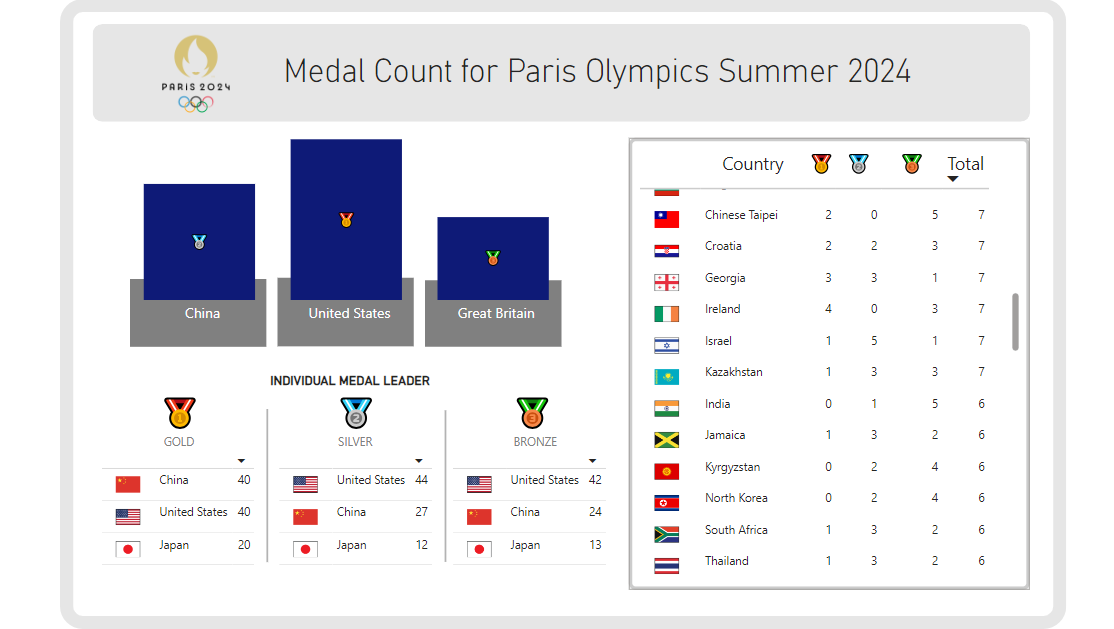

Layout of this report page (visuals, bound fields, positions):
{"tool":"powerbi","page":{"name":"Page 1","canvas":[1280,720],"ordinal":0},"visuals":[{"type":"shape","box":[74.6,0,1150,720],"z":0},{"type":"shape","box":[322.9,319.1,155.7,78.6],"z":1000},{"type":"shape","box":[491.6,320.7,156.2,76.2],"z":2000},{"type":"shape","box":[153.7,319.5,155.8,77.5],"z":3000},{"type":"tableEx","fields":{"Values":["Flag.Flag","Total Medals By Country.Country","Total Medals By Country.Gold","Total Medals By Country.Silver","Total Medals By Country.Bronze","Total Medals By Country.Total"]},"box":[725,158.3,458.3,516.7],"z":4000},{"type":"clusteredColumnChart","fields":{"Category":["Total Medals By Country.Country"],"Y":["Sum(Total Medals By Country.Total)"]},"box":[102.9,122.9,604.3,257.1],"z":5000},{"type":"tableEx","fields":{"Values":["Flag.Flag","Total Medals By Country.Country","Sum(Total Medals By Country.Gold)"]},"box":[115,499,195,159],"z":6000},{"type":"tableEx","fields":{"Values":["Flag.Flag","Total Medals By Country.Country","Sum(Total Medals By Country.Silver)"]},"box":[318,499,196,159],"z":7000},{"type":"tableEx","fields":{"Values":["Flag.Flag","Total Medals By Country.Country","Sum(Total Medals By Country.Bronze)"]},"box":[517,499,201,158],"z":8000},{"type":"textbox","box":[255,422,300,37],"z":9000},{"type":"textbox","box":[184.2,445,56.7,55],"z":10000},{"type":"textbox","box":[385,445,60.8,55],"z":11000},{"type":"textbox","box":[587.5,445,62.5,55],"z":12000},{"type":"shape","box":[285,468,51,175],"z":13000},{"type":"shape","box":[484.4,470,61.1,173.3],"z":14000},{"type":"shape","box":[111.7,28.3,1071.7,111.7],"z":15000},{"type":"image","box":[152.9,14.3,154.3,142.9],"z":16000},{"type":"textbox","box":[258,54,860,72],"z":17000},{"type":"textbox","box":[176.4,491.8,69.1,39.1],"z":17001},{"type":"textbox","box":[377,491,69,39],"z":17002},{"type":"textbox","box":[582.7,491.8,69.1,39.1],"z":17003}]}

Visuals, with their boxes in screenshot pixels (x1, y1, x2, y2), scaled from the page's 1280x720 canvas onto the 1114x629 screenshot:
shape: x1=65, y1=0, x2=1066, y2=628
shape: x1=281, y1=279, x2=417, y2=347
shape: x1=428, y1=280, x2=564, y2=347
shape: x1=134, y1=279, x2=269, y2=347
tableEx - Flag.Flag x Total Medals By Country.Country: x1=631, y1=138, x2=1030, y2=590
clusteredColumnChart - Total Medals By Country.Country x Sum(Total Medals By Country.Total): x1=90, y1=107, x2=615, y2=332
tableEx - Flag.Flag x Total Medals By Country.Country: x1=100, y1=436, x2=270, y2=575
tableEx - Flag.Flag x Total Medals By Country.Country: x1=277, y1=436, x2=447, y2=575
tableEx - Flag.Flag x Total Medals By Country.Country: x1=450, y1=436, x2=625, y2=574
textbox: x1=222, y1=369, x2=483, y2=401
textbox: x1=160, y1=389, x2=210, y2=437
textbox: x1=335, y1=389, x2=388, y2=437
textbox: x1=511, y1=389, x2=566, y2=437
shape: x1=248, y1=409, x2=292, y2=562
shape: x1=422, y1=411, x2=475, y2=562
shape: x1=97, y1=25, x2=1030, y2=122
image: x1=133, y1=12, x2=267, y2=137
textbox: x1=225, y1=47, x2=973, y2=110
textbox: x1=154, y1=430, x2=214, y2=464
textbox: x1=328, y1=429, x2=388, y2=463
textbox: x1=507, y1=430, x2=567, y2=464
